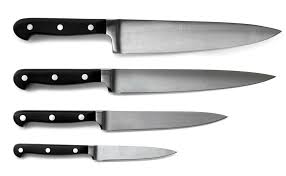kuchillu: (10, 12, 283, 59), (11, 63, 281, 99), (10, 106, 232, 136), (8, 140, 179, 164)
